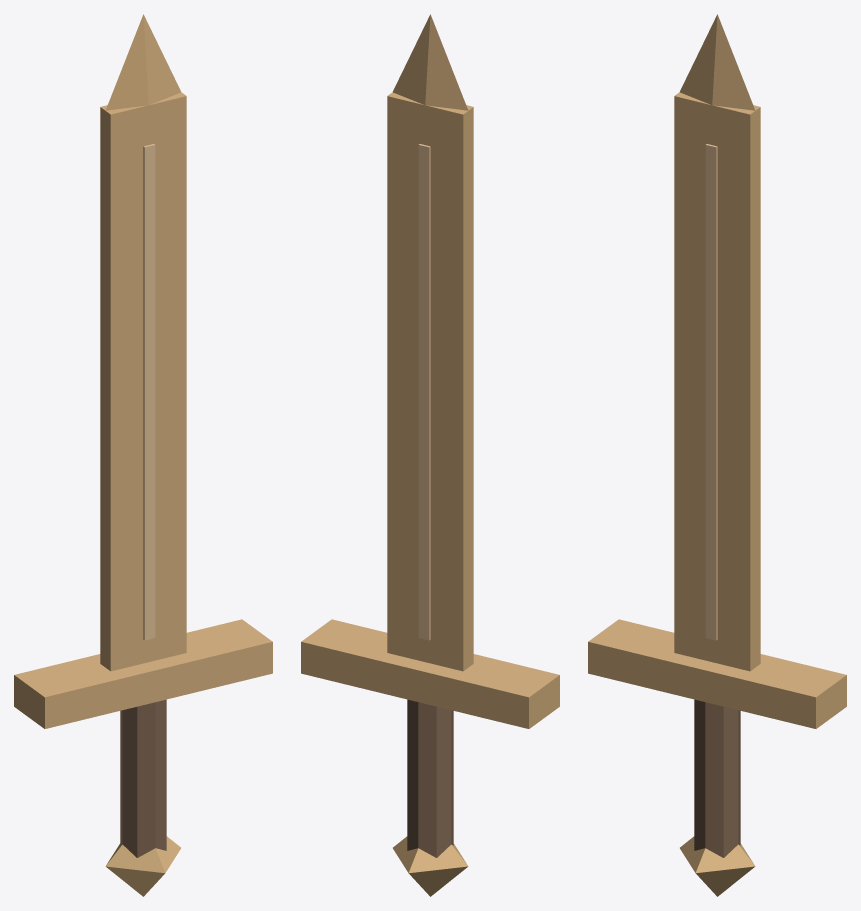
File: sword-bronze.glb
3 views of the same model, side by side, from view 1: azimuth 30°, elevation 25°; view 2: azimuth 150°, elevation 25°; view 3: azimuth 330°, elevation 25° (orthographic).
Size of the model in its own units: 0.6 by 2.22 by 0.2.
